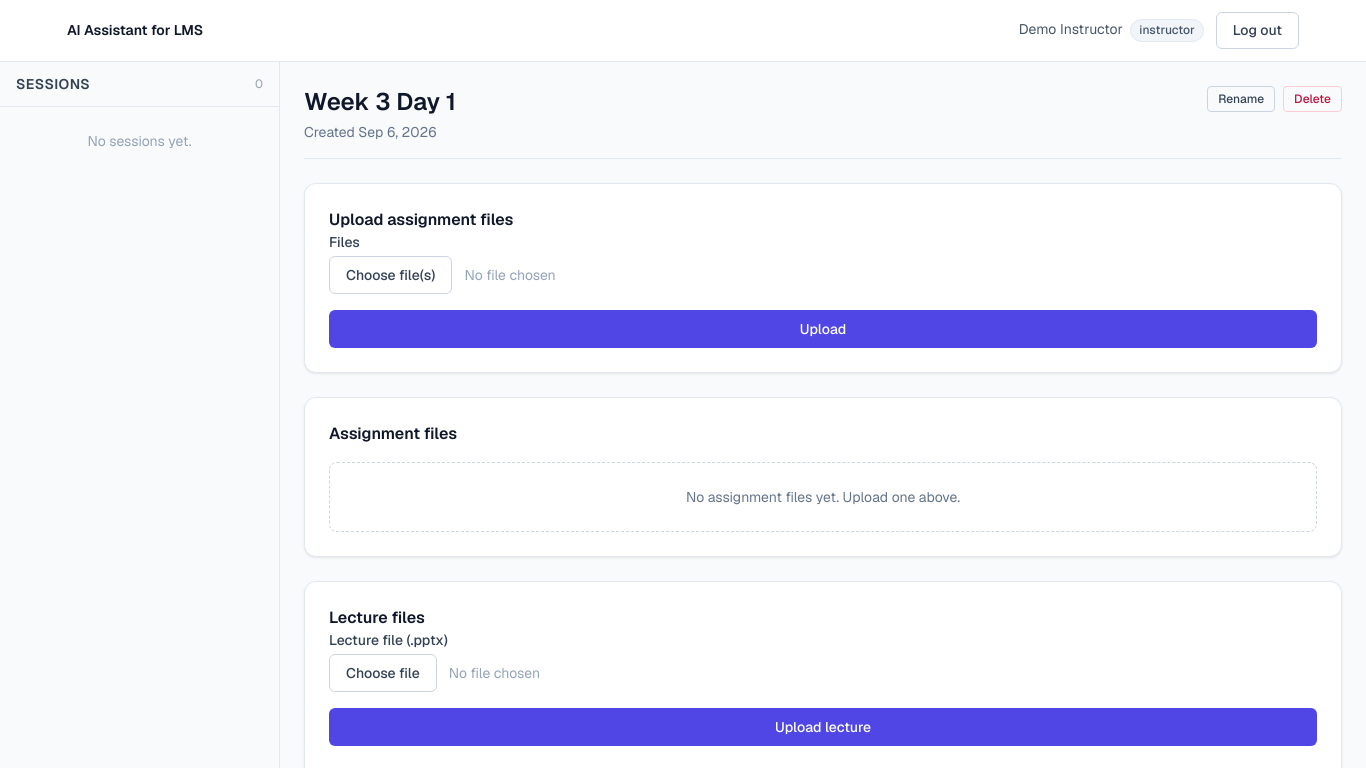
Test: <SessionDetail /> — rename and delete (restored after the 7.8 shell dropped them) › surfaces a rename conflict from the backend
Expected: the heading "Week 3 Day 1" is shown, 304,86 -> 456,118
Click the button "Rename" at coordinates (1241, 99), box 1207,86 -> 1275,112
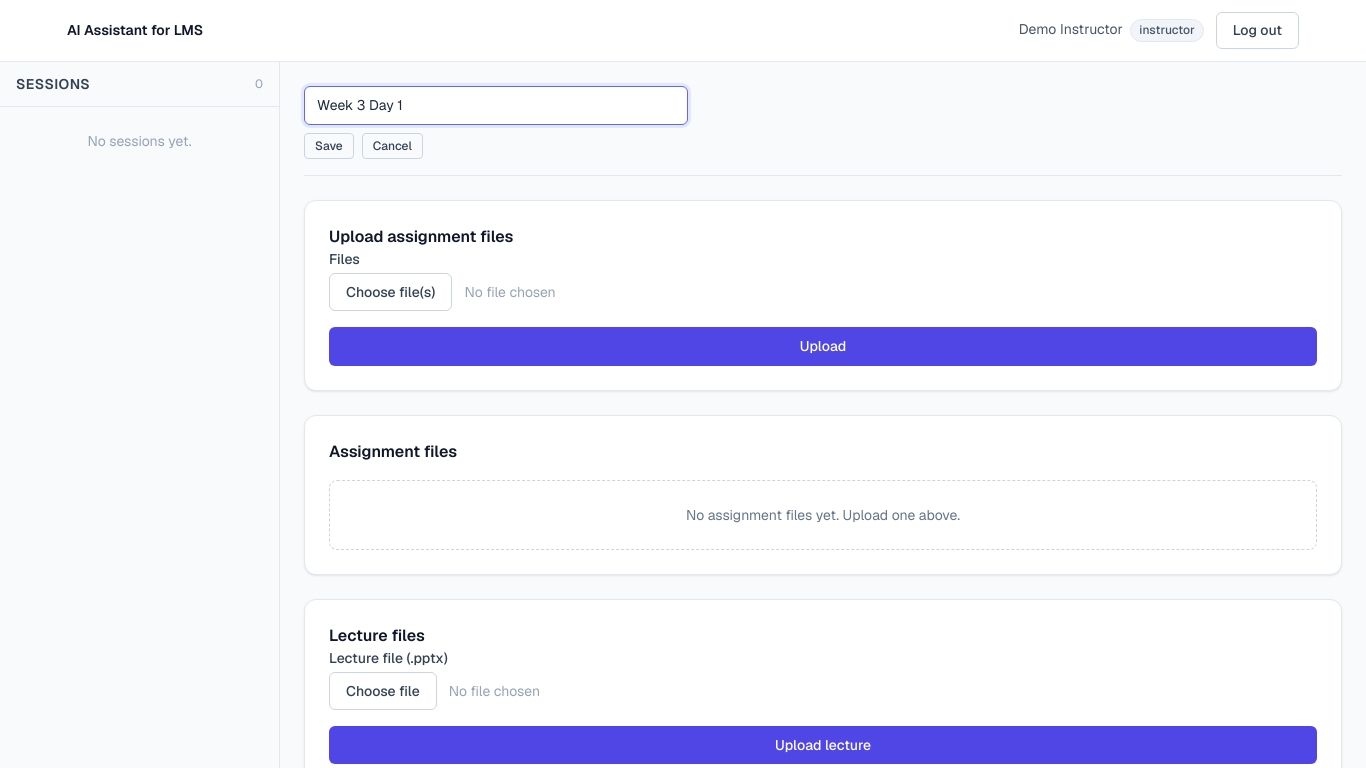
Replace the text in the field named "rename \"week 3 day 1\"" with "Week 2 Day 1" at coordinates (496, 106), box 304,86 -> 688,126
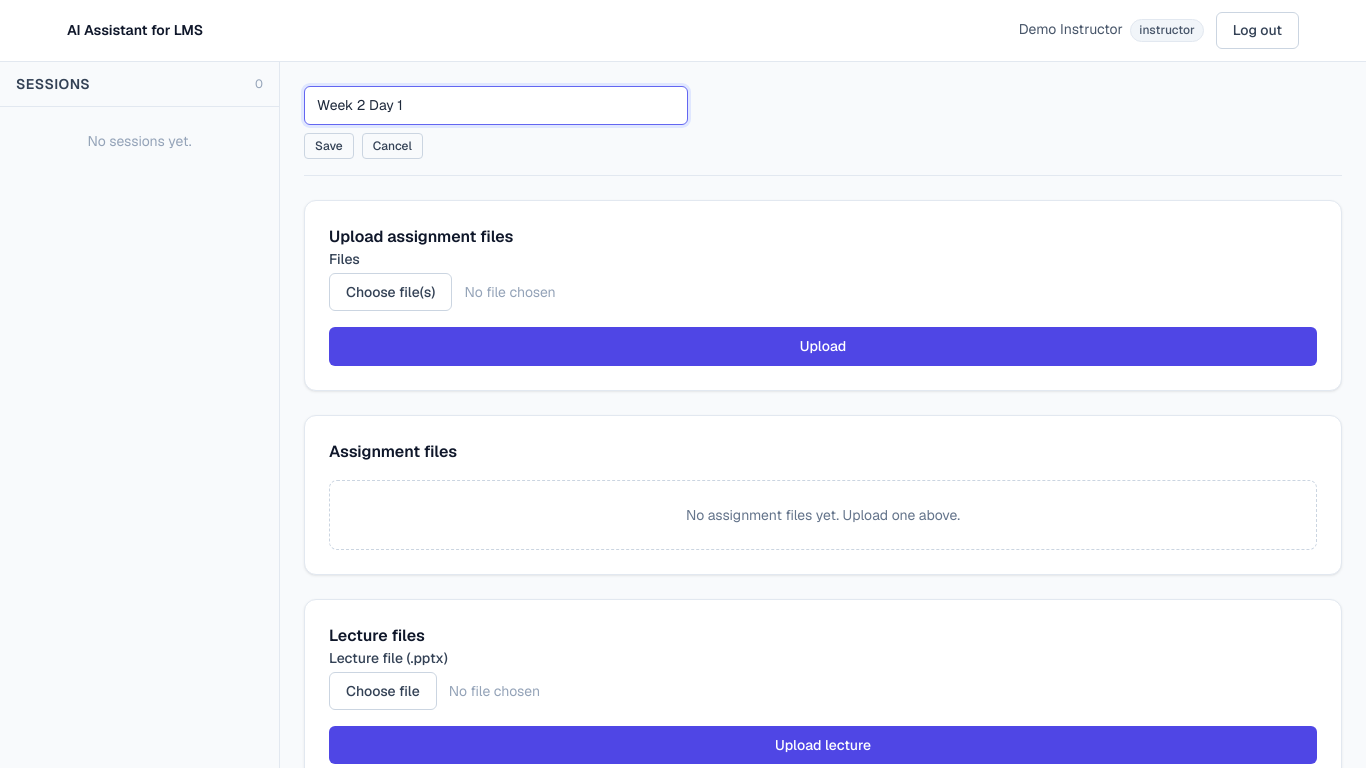
Click the button "Save" at coordinates (329, 146), box 304,133 -> 354,159
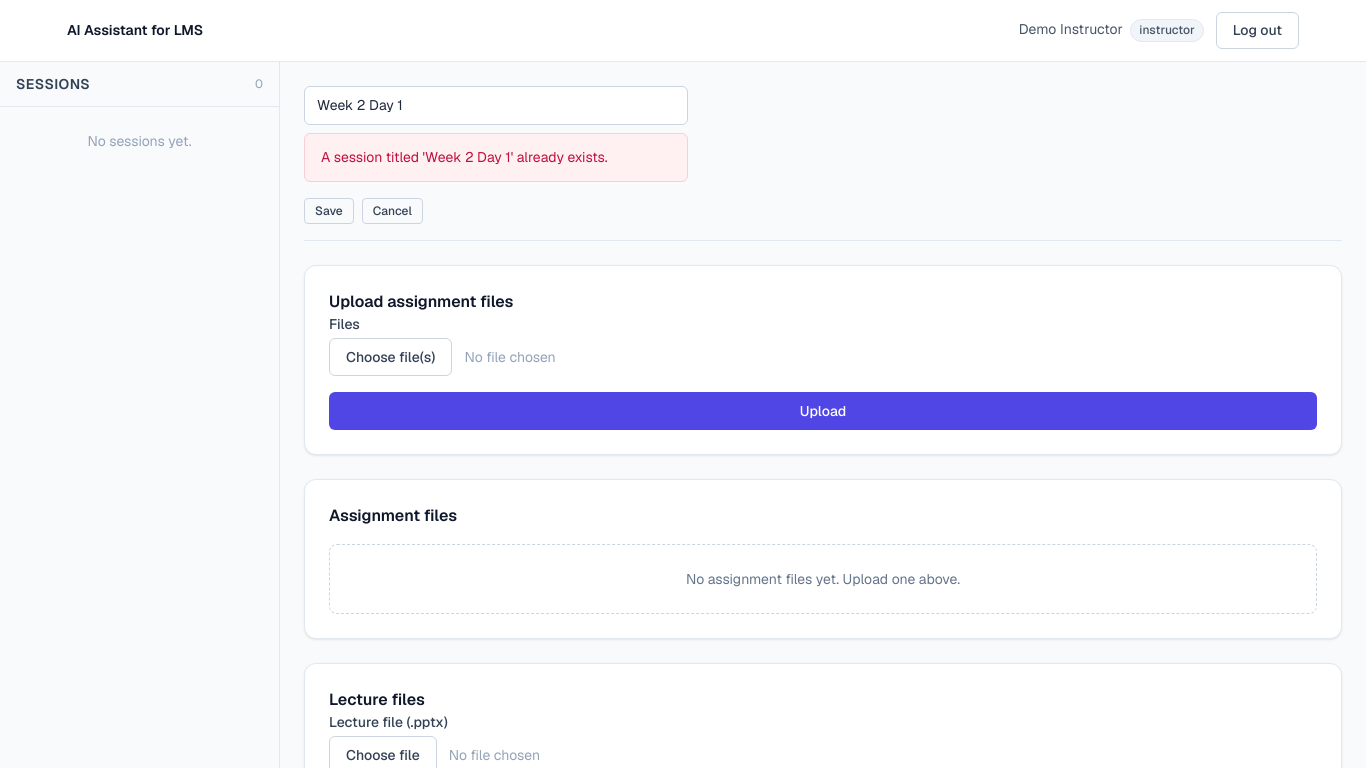
Result: the message shows "already exists" at 321,148 -> 608,166
